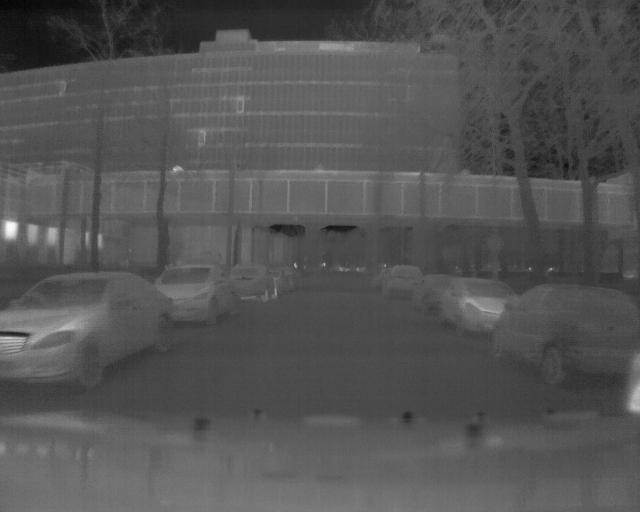car: (1, 267, 178, 390), (487, 279, 640, 387), (153, 264, 244, 327), (438, 276, 517, 337), (224, 264, 281, 307), (411, 273, 464, 315), (379, 264, 421, 302)
